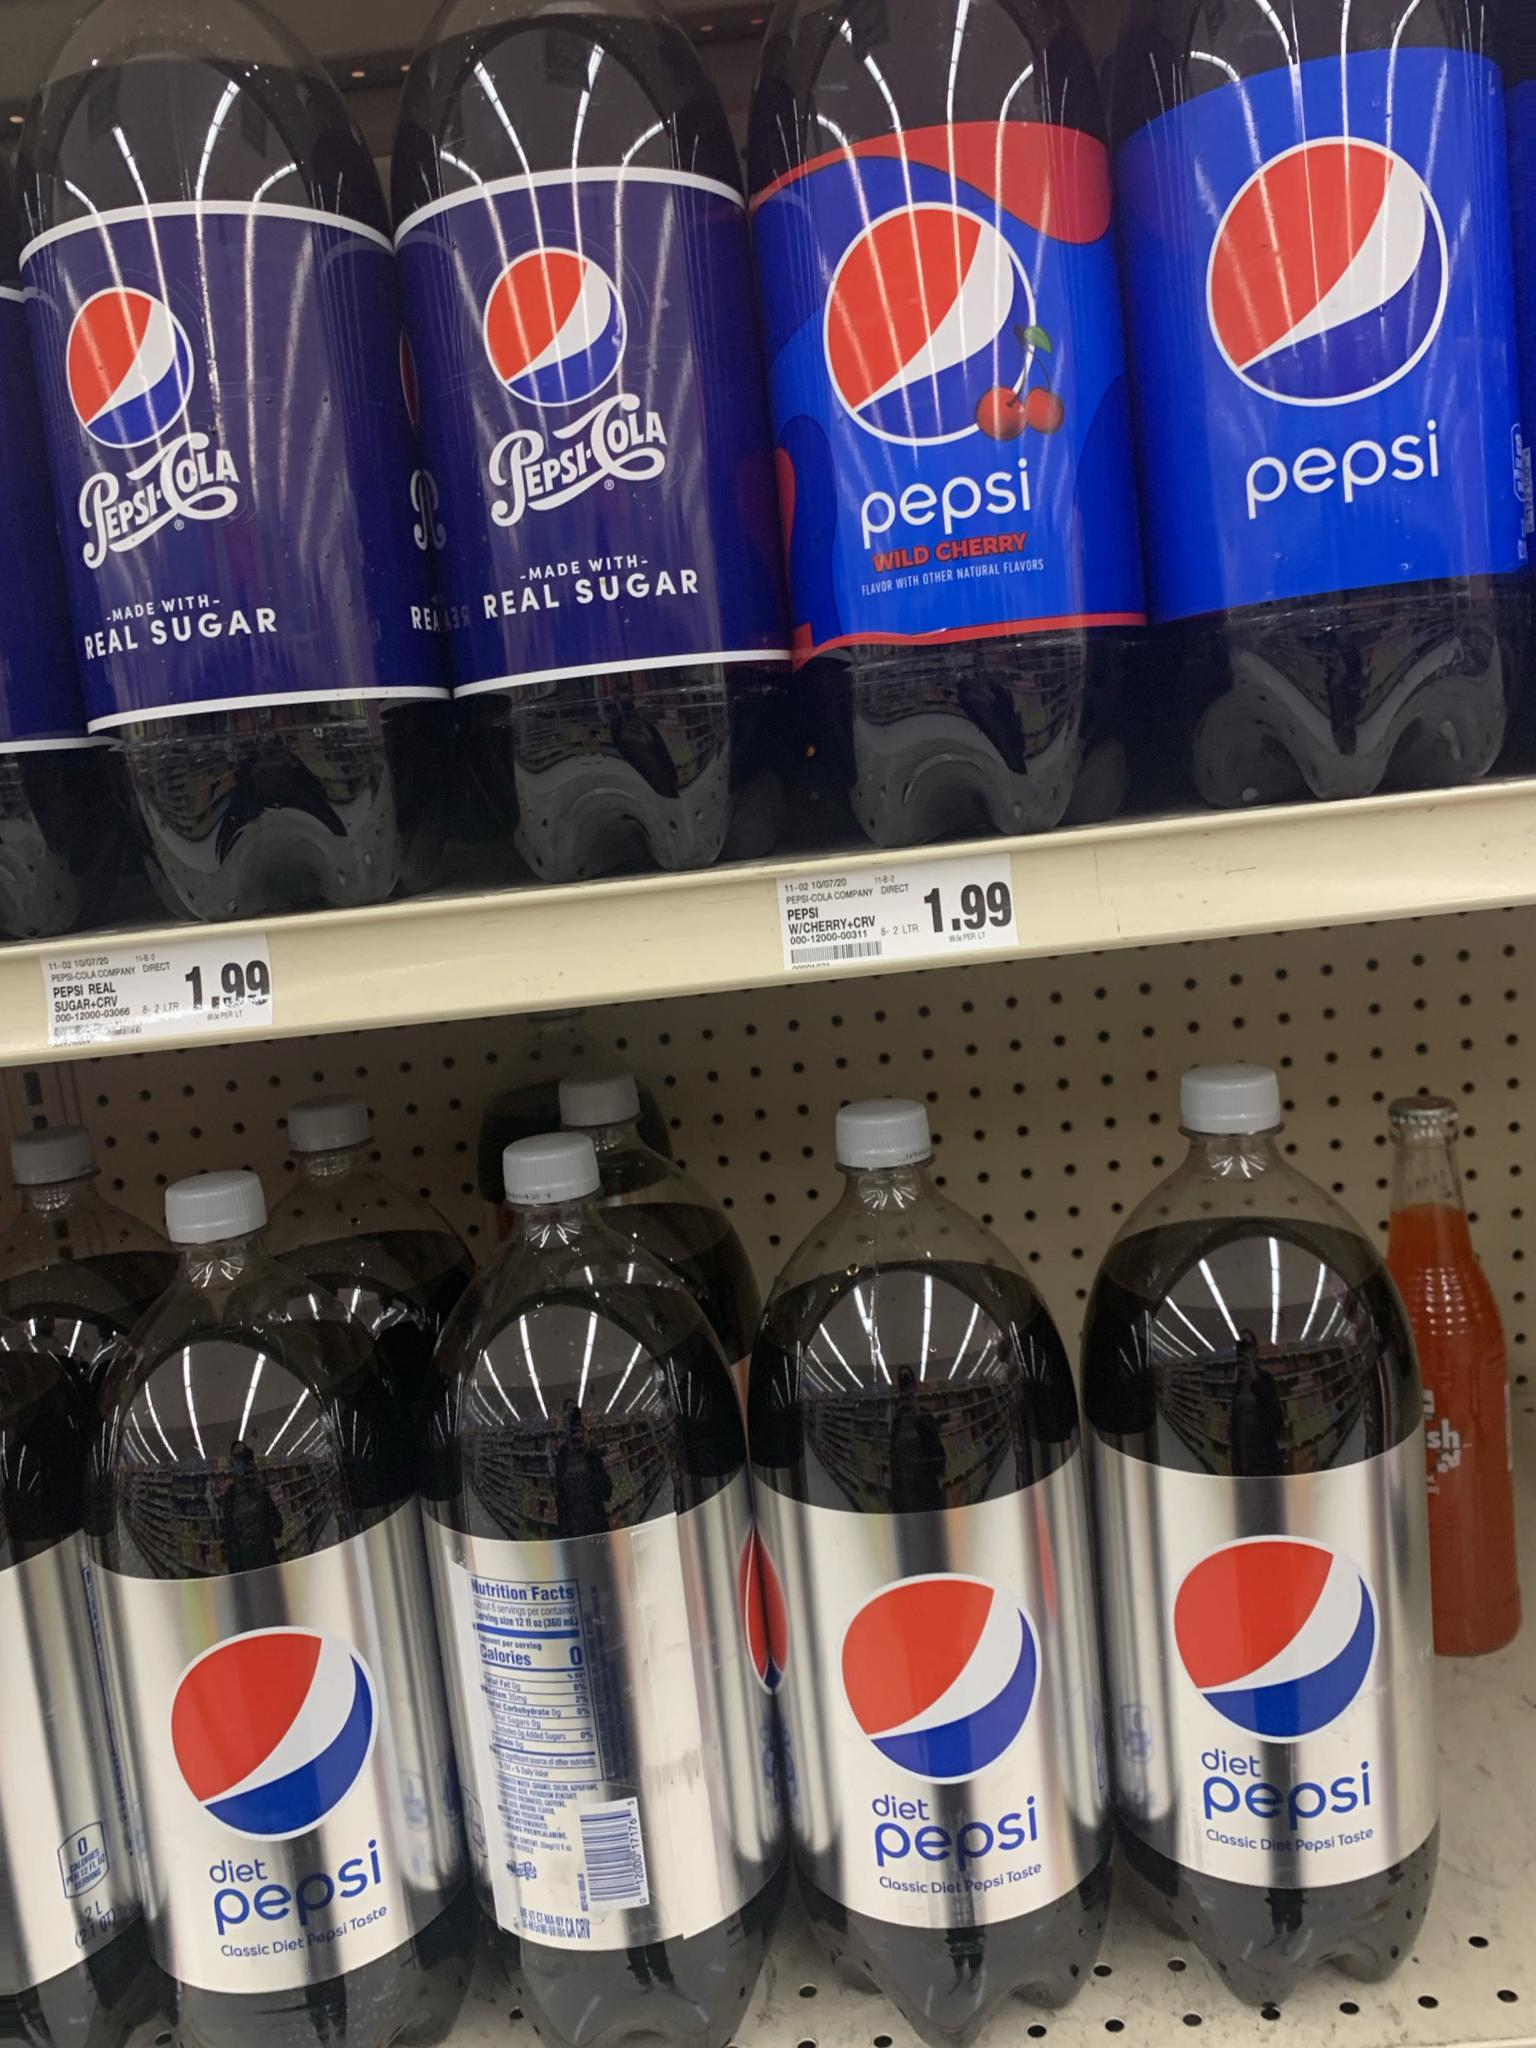soda: (1037, 1071, 1468, 1995), (753, 1100, 1115, 2032), (373, 40, 760, 893), (35, 31, 411, 905), (68, 1182, 428, 2048), (1121, 31, 1512, 789), (745, 44, 1112, 834), (473, 1121, 726, 2025)
